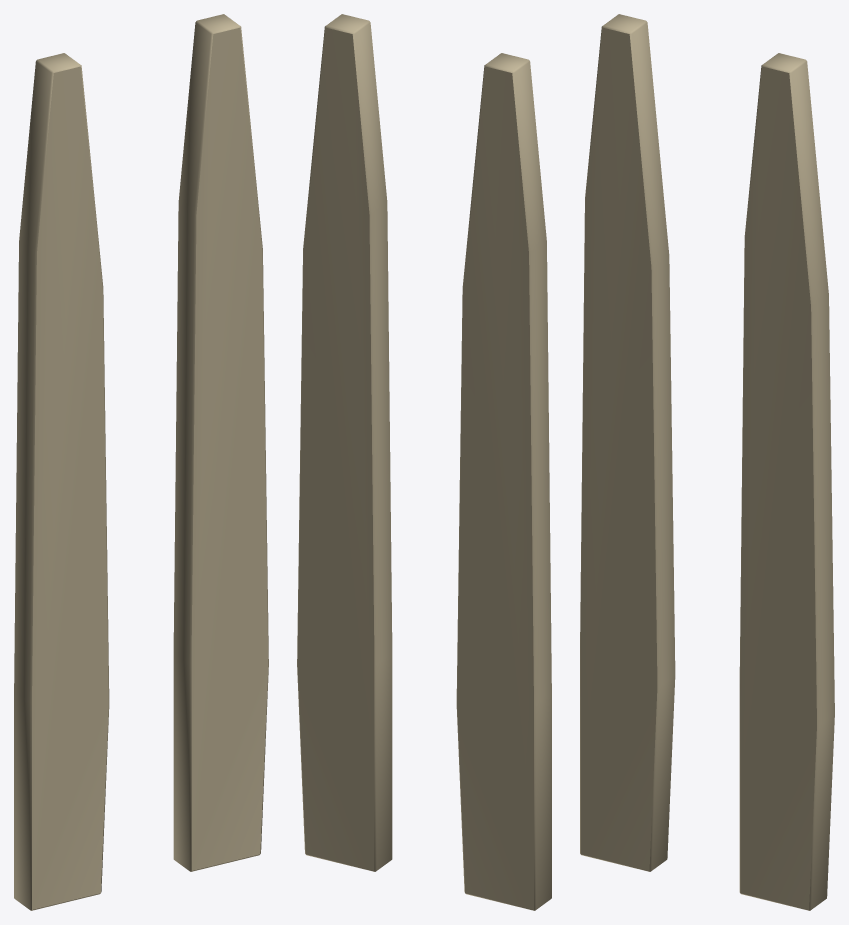
The model's file is sky_blades.glb.
3 renders of one model, left to right at view 1: azimuth 30°, elevation 25°; view 2: azimuth 150°, elevation 25°; view 3: azimuth 330°, elevation 25°, orthographic.
Parts seen in each view (by area): view 1: BladeHull; view 2: BladeHull; view 3: BladeHull.
Part boxes in pixels (box(x1,y1,x2,y2)): BladeHull: box(14, 14, 268, 910); BladeHull: box(297, 14, 551, 910); BladeHull: box(580, 14, 834, 910).
Bounding box in the file's own units: 24 × 80 × 3.
